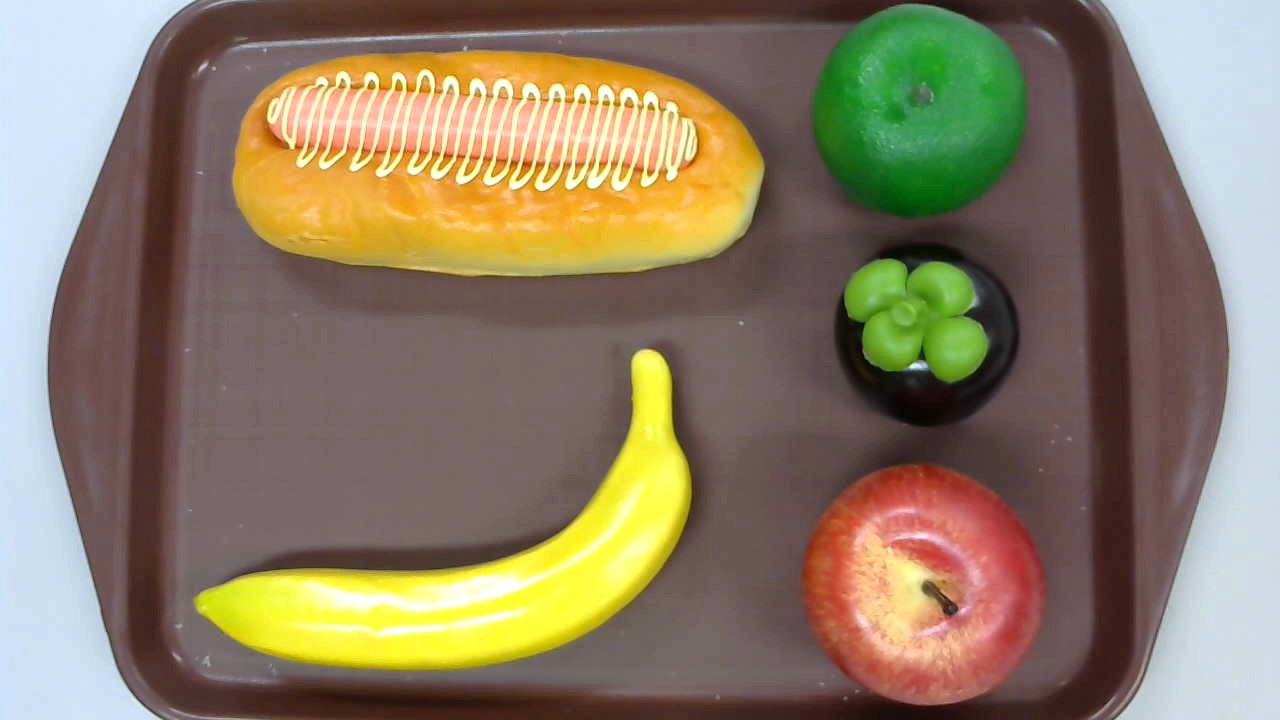banana: (192, 348, 691, 672)
green orange: (812, 4, 1026, 216)
hot dog: (231, 49, 765, 277)
mangosteen: (833, 242, 1020, 429)
red apple: (803, 463, 1045, 707)
